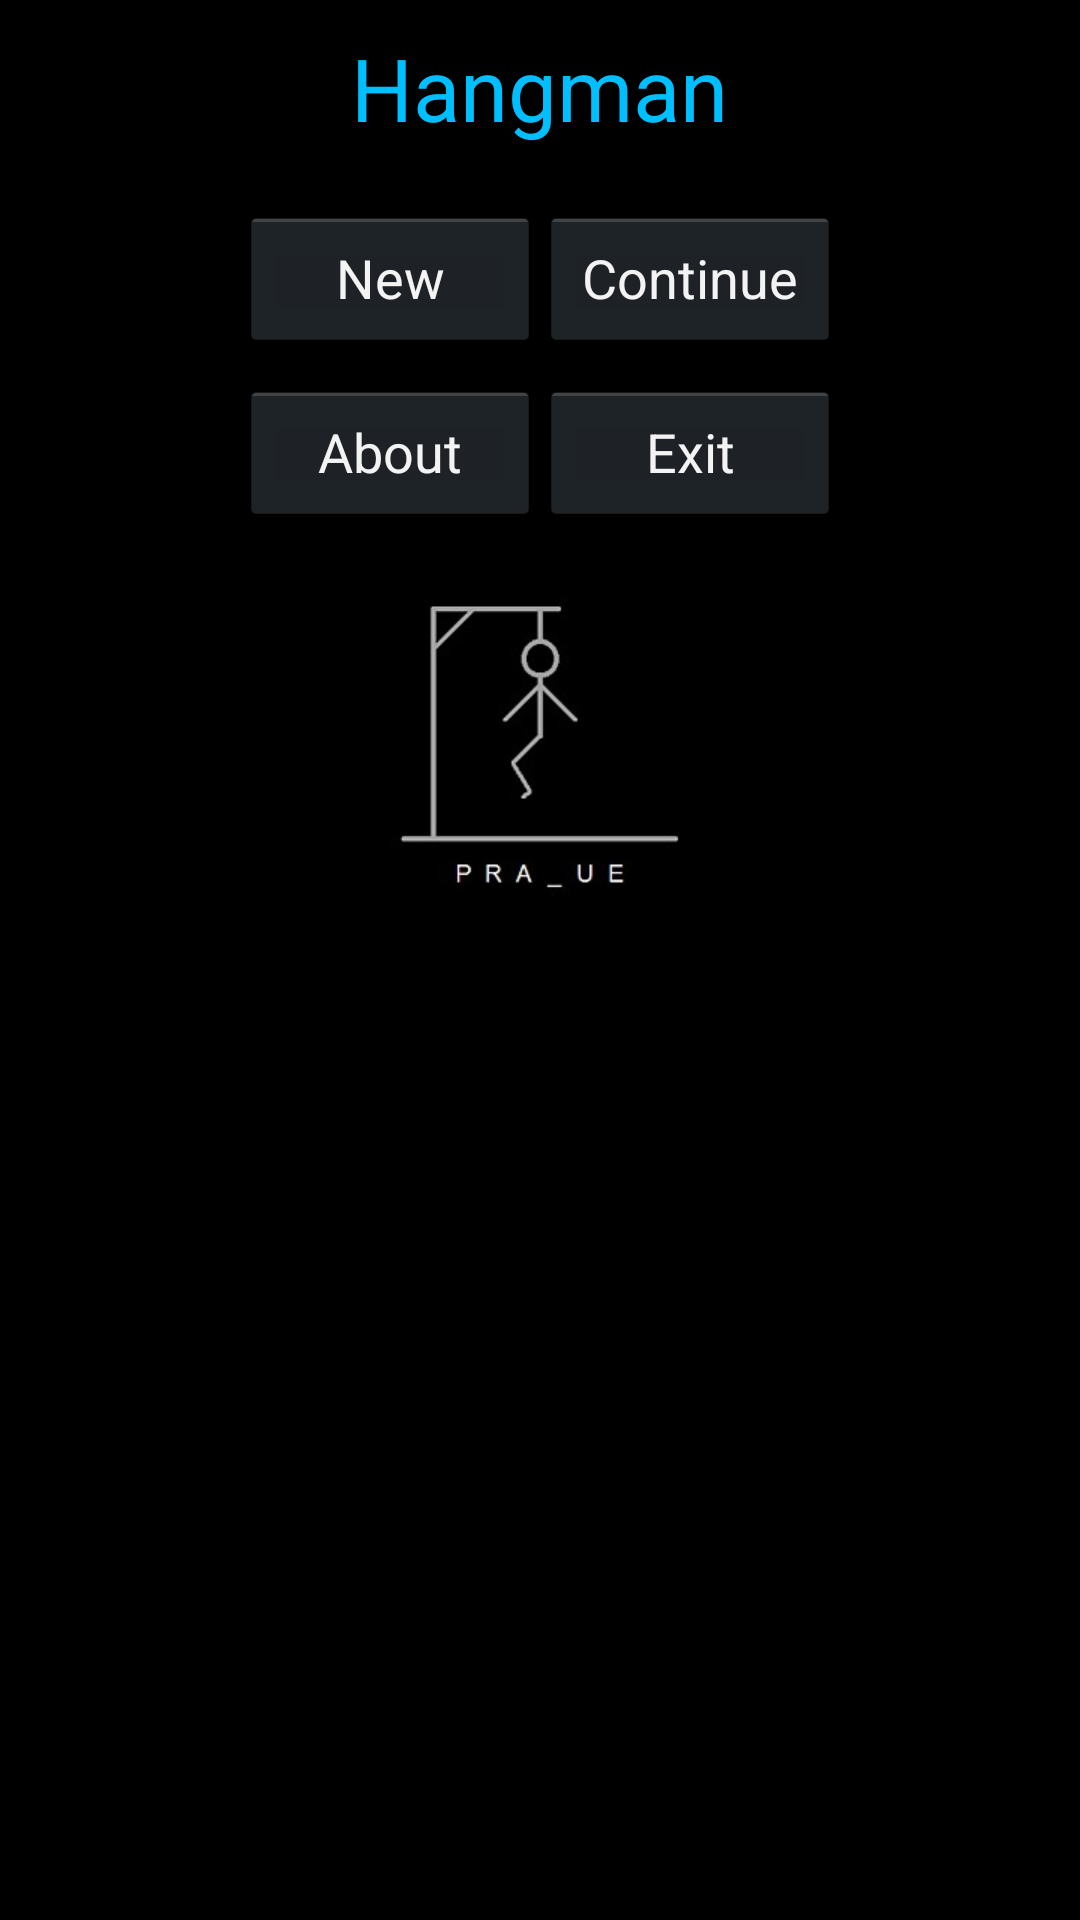

Where icons sit on this 1080w x 1920h app screen, as (x1, y1, x2, y2):
hangman: (400, 606, 679, 888)
